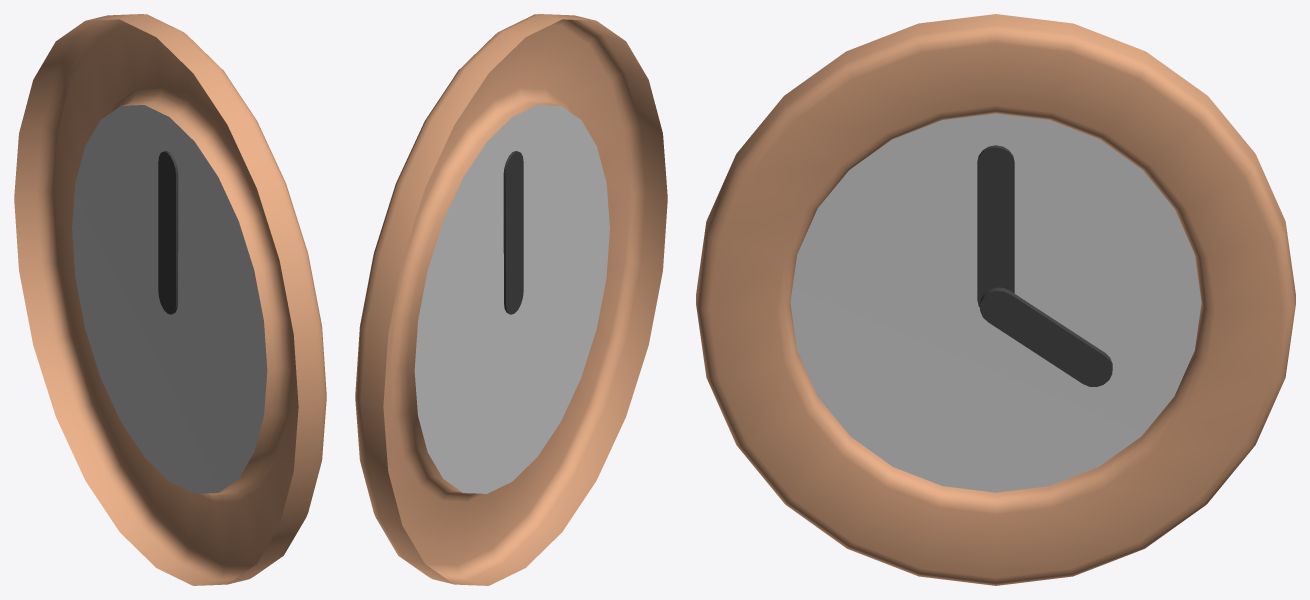
Rendered from 01_Clock.fbx.
The picture shows the model from 3 angles, left to right: view 1: azimuth 30°, elevation 25°; view 2: azimuth 150°, elevation 25°; view 3: azimuth 270°, elevation 25°; orthographic projection. The views are drawn at different scales.
Visible parts, largest first — view 1: Cylinder.036, Cube.093; view 2: Cylinder.036, Cube.093; view 3: Cylinder.036, Cube.094, Cube.093.
Boxes of the visible parts, left/top/right/bottom form: Cylinder.036: left=14, top=14, right=326, bottom=585; Cube.093: left=158, top=151, right=178, bottom=314; Cylinder.036: left=355, top=14, right=667, bottom=585; Cube.093: left=503, top=151, right=523, bottom=314; Cylinder.036: left=696, top=14, right=1295, bottom=585; Cube.094: left=980, top=287, right=1112, bottom=386; Cube.093: left=977, top=145, right=1014, bottom=307.
Bounding box in the file's own units: 1.48 × 22.98 × 22.32.
